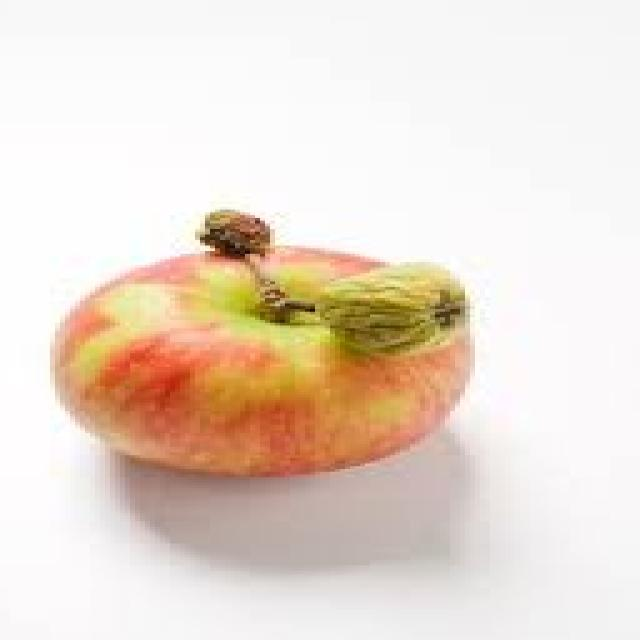inorganic: (34, 154, 512, 532)
